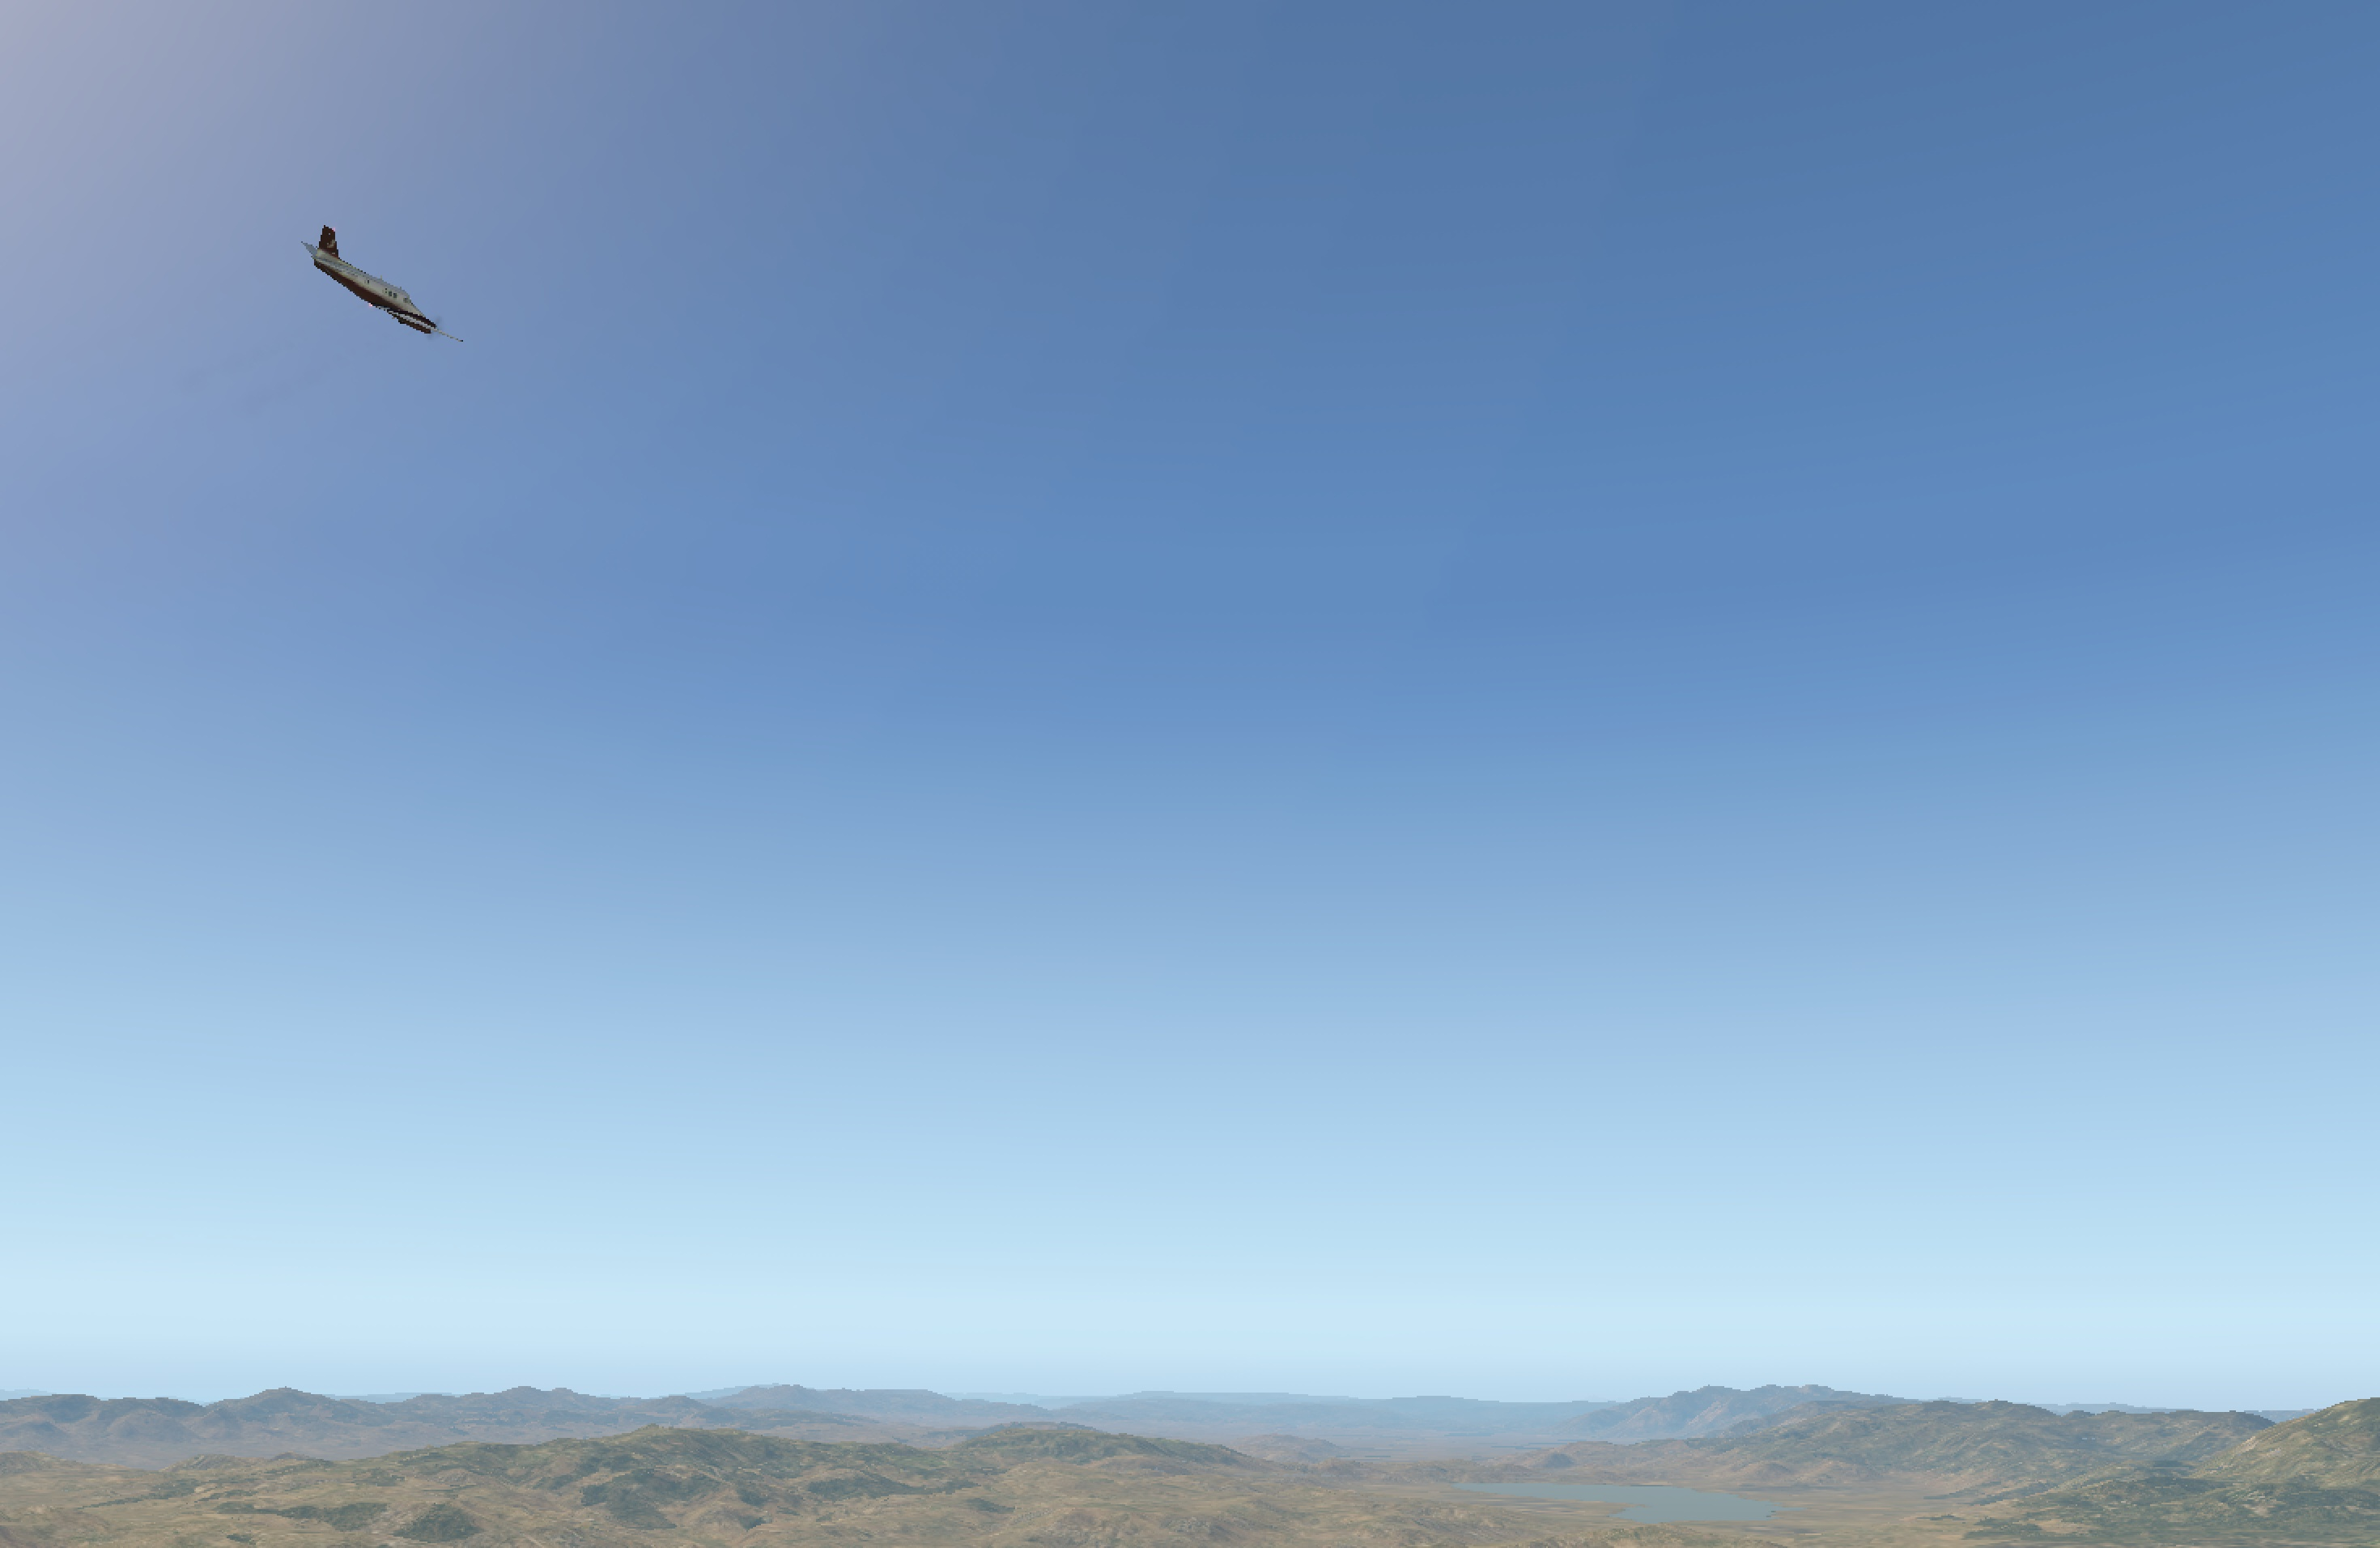aircraft: (281, 269, 491, 349)
